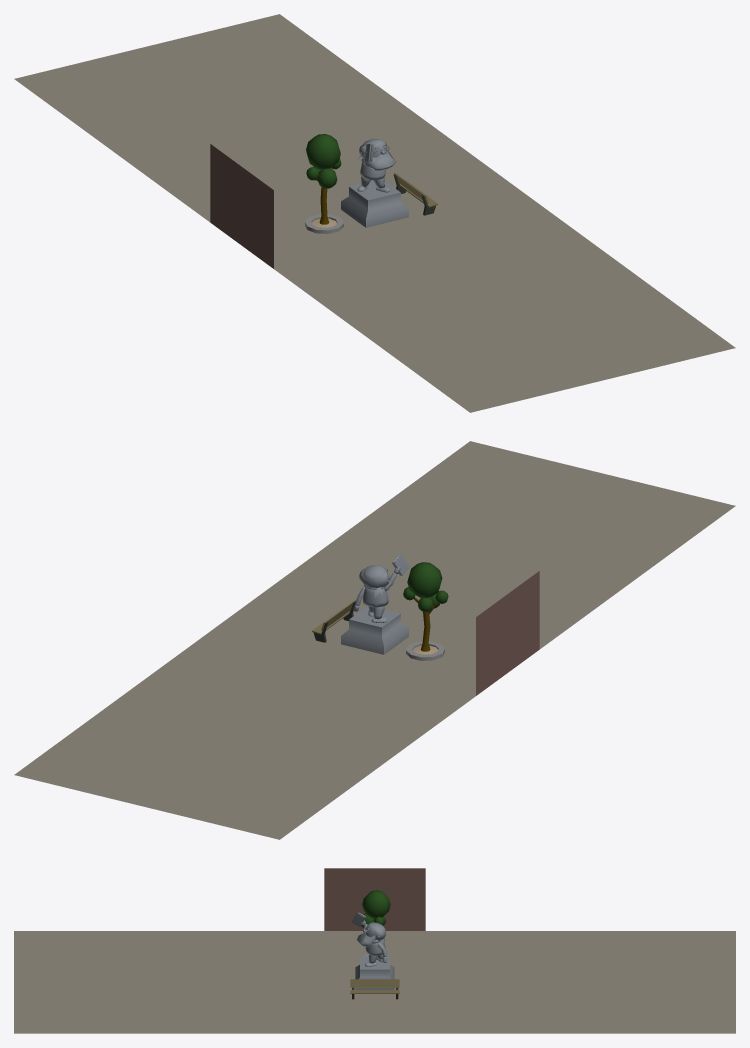
The model's file is STREET_01.fbx.
The picture shows the model from 3 angles, top to bottom: view 1: azimuth 30°, elevation 25°; view 2: azimuth 150°, elevation 25°; view 3: azimuth 270°, elevation 25°; orthographic projection. The views are drawn at different scales.
Visible parts, largest first — view 1: sol, mur_chunk, piedestal, feuilles, statue; view 2: sol, mur_chunk, piedestal, statue, feuilles; view 3: sol, mur_chunk, statue, piedestal, feuilles, pCube6.
Boxes of the visible parts, <box> form: sol: <box>14,14,735,412</box>; mur_chunk: <box>210,144,273,268</box>; piedestal: <box>341,181,408,227</box>; feuilles: <box>306,134,341,188</box>; statue: <box>357,139,396,192</box>; sol: <box>14,441,735,839</box>; mur_chunk: <box>476,571,539,695</box>; piedestal: <box>341,606,408,654</box>; statue: <box>353,554,409,622</box>; feuilles: <box>403,562,448,612</box>; sol: <box>14,931,735,1033</box>; mur_chunk: <box>324,868,425,930</box>; statue: <box>351,911,387,966</box>; piedestal: <box>355,957,394,989</box>; feuilles: <box>361,890,390,928</box>; pCube6: <box>350,979,399,987</box>.
Size of the model in its own units: 1202 by 388 by 3574.
